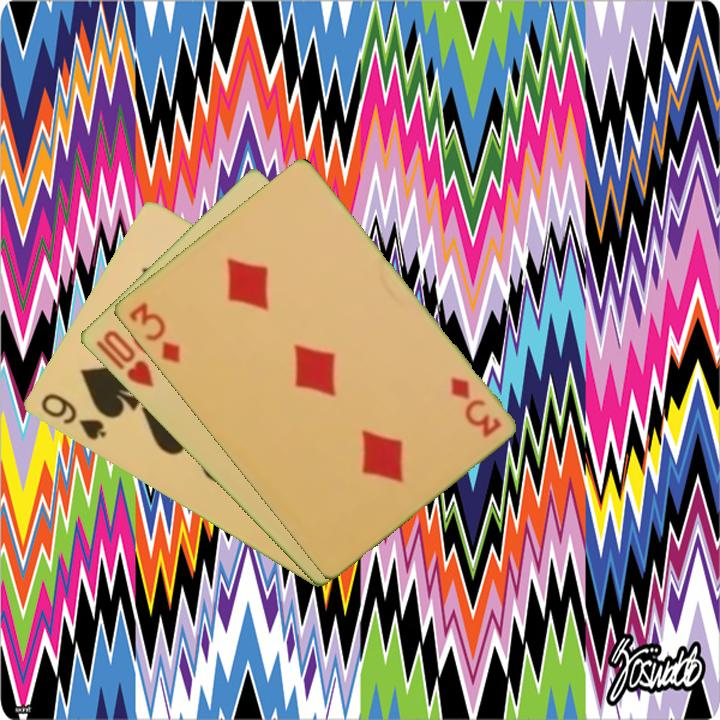10h: (99, 326, 156, 391)
3d: (124, 298, 183, 366), (446, 373, 504, 441)
9s: (36, 390, 109, 444)
